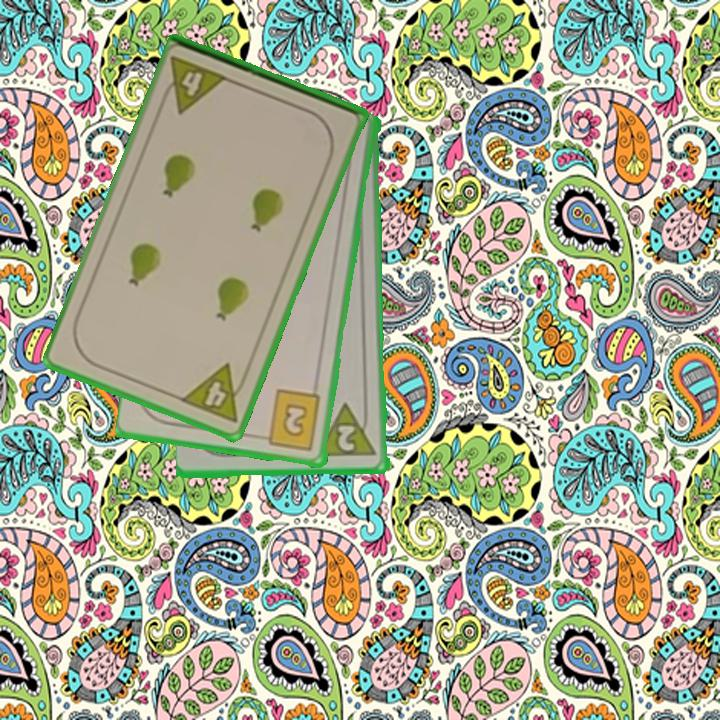2b: (256, 387, 324, 454)
2p: (316, 400, 380, 460)
4p: (177, 360, 252, 426), (156, 52, 232, 116)
